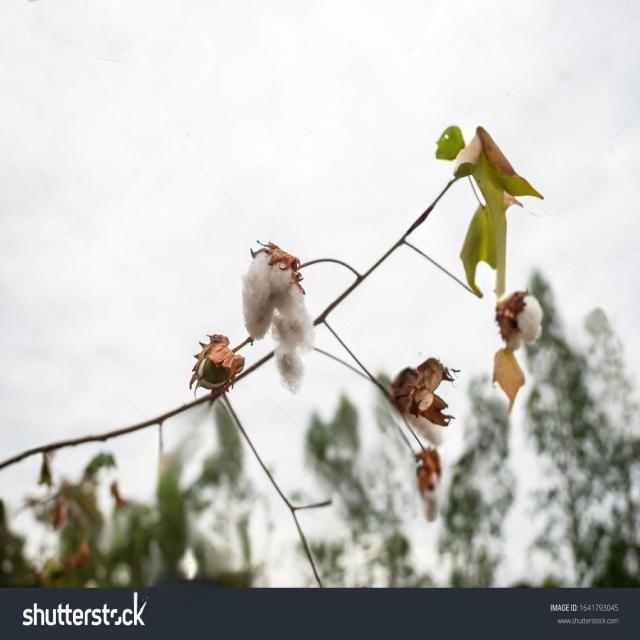Early_blight: (231, 230, 325, 407), (181, 324, 254, 410), (493, 280, 552, 362)
